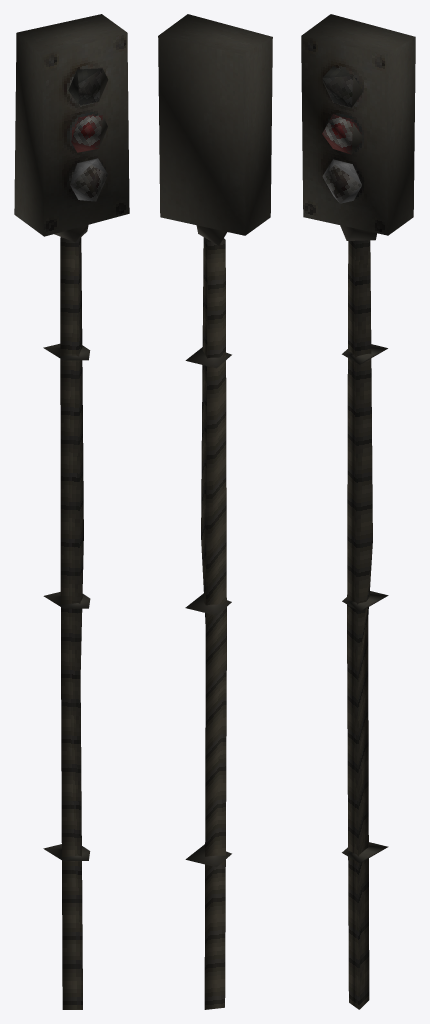
File: button_12.glb
The picture shows the model from 3 angles, left to right: view 1: azimuth 30°, elevation 25°; view 2: azimuth 150°, elevation 25°; view 3: azimuth 330°, elevation 25°; orthographic projection.
Visible parts, largest first — view 1: button_12; view 2: button_12; view 3: button_12.
Boxes of the visible parts, x1,y1,x2,y2 form: button_12: (14,14,129,1009); button_12: (158,14,272,1009); button_12: (301,14,415,1009).
Bounding box in the file's own units: 0.105 × 1.12 × 0.0732.
2 materials, 2 textured.
